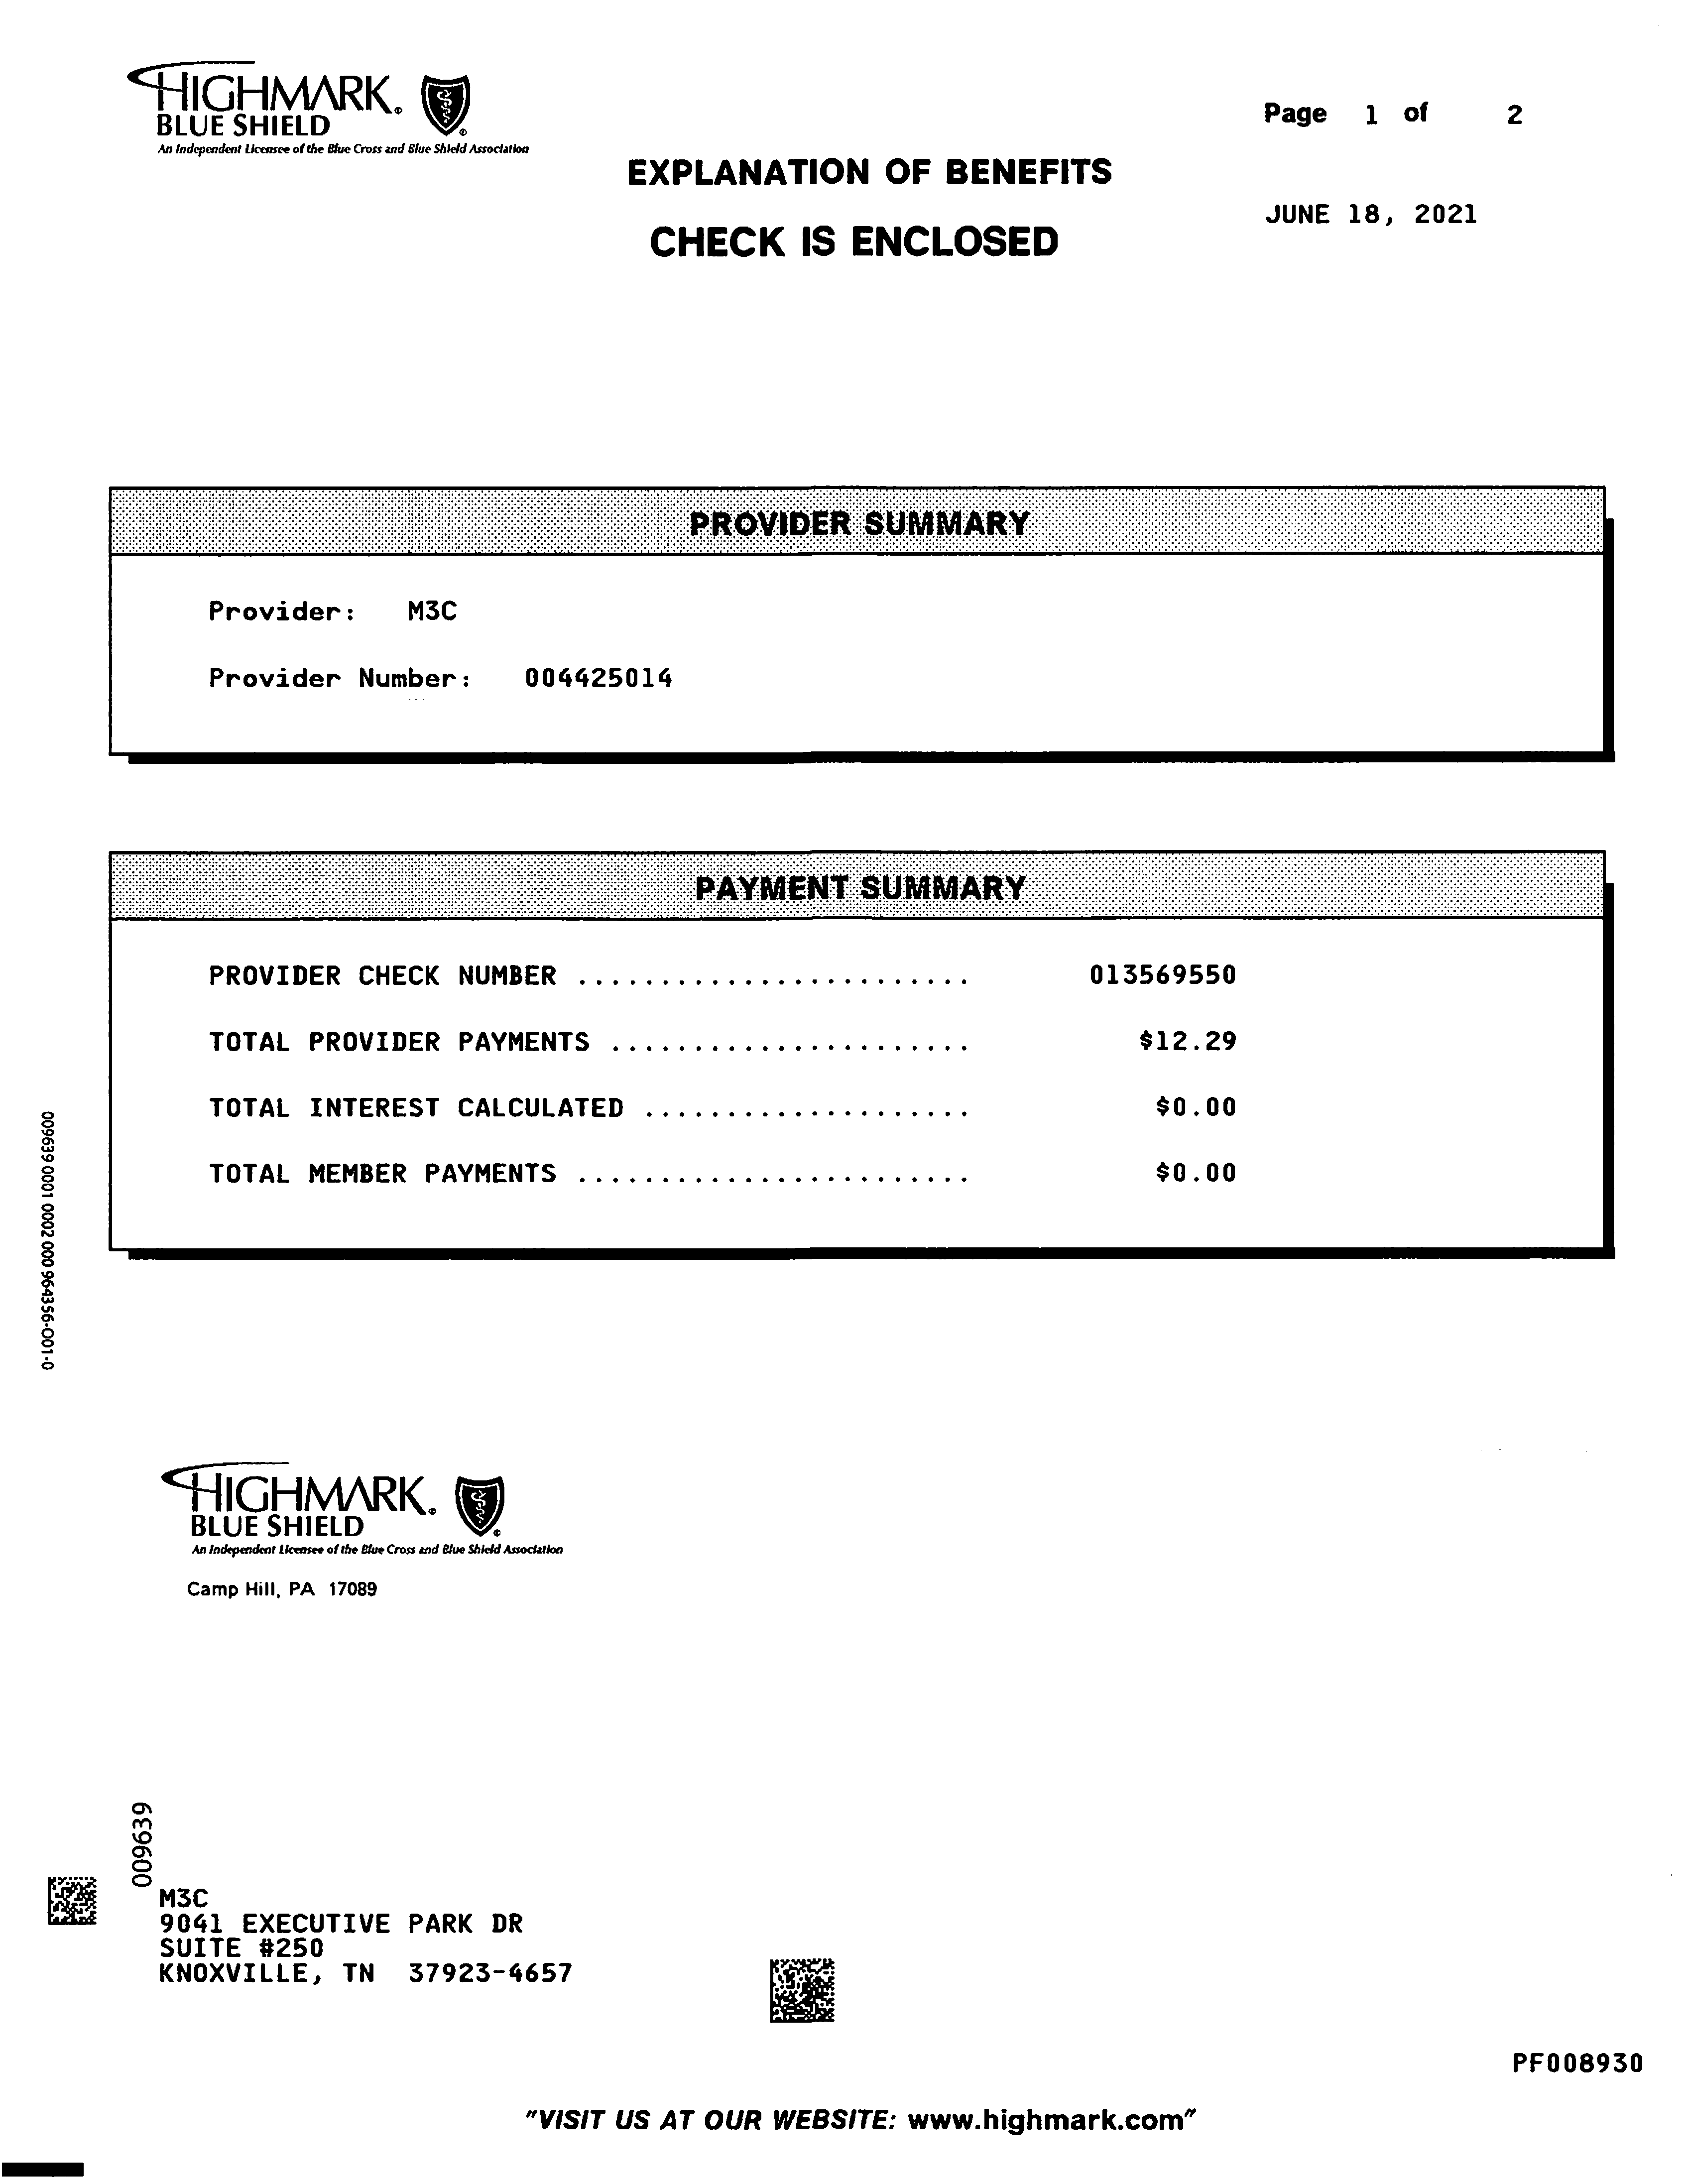data: (183, 941, 1248, 1204), (183, 574, 713, 706)
